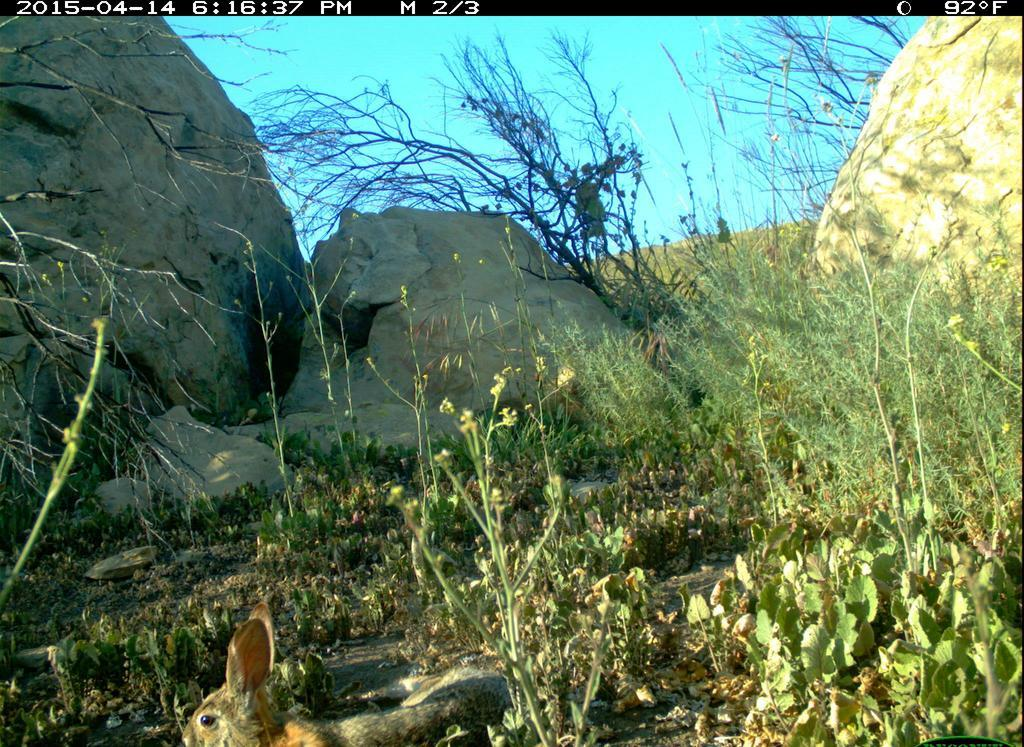rabbit: (185, 602, 513, 747)
